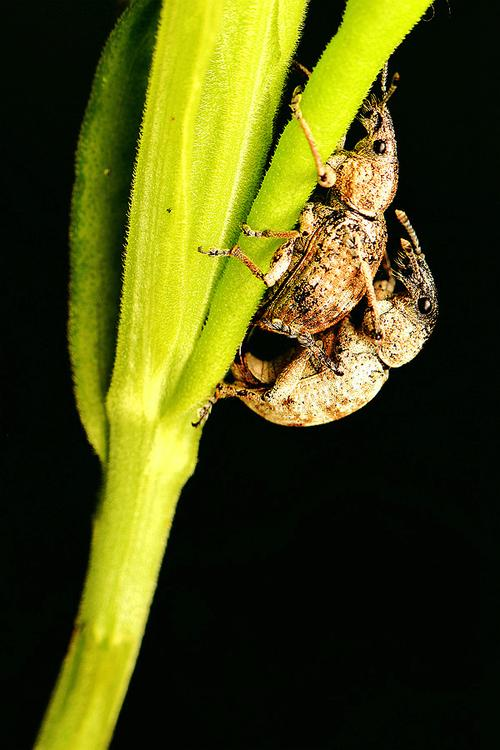Curculionidae: (189, 206, 441, 432), (199, 58, 401, 338)
